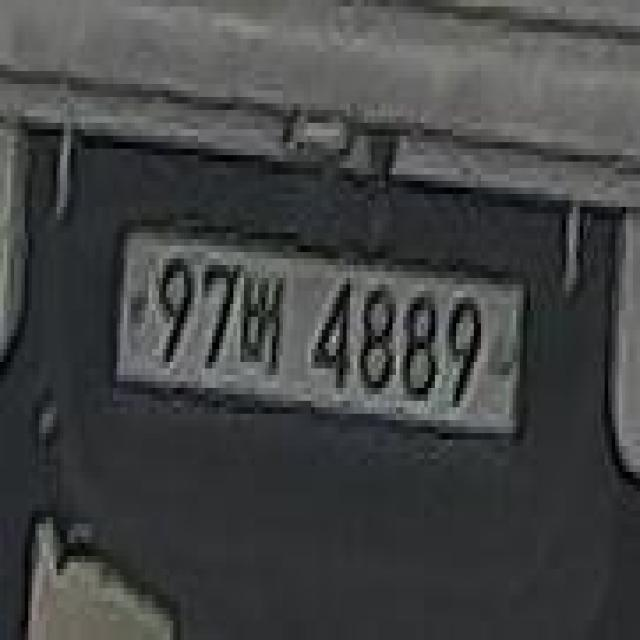4: (312, 268, 356, 391)
7: (200, 253, 238, 372)
8: (361, 278, 398, 398), (403, 284, 439, 406)
9: (444, 288, 484, 410), (156, 243, 194, 368)
beo: (242, 259, 288, 378)
license_plate: (110, 226, 532, 445)
